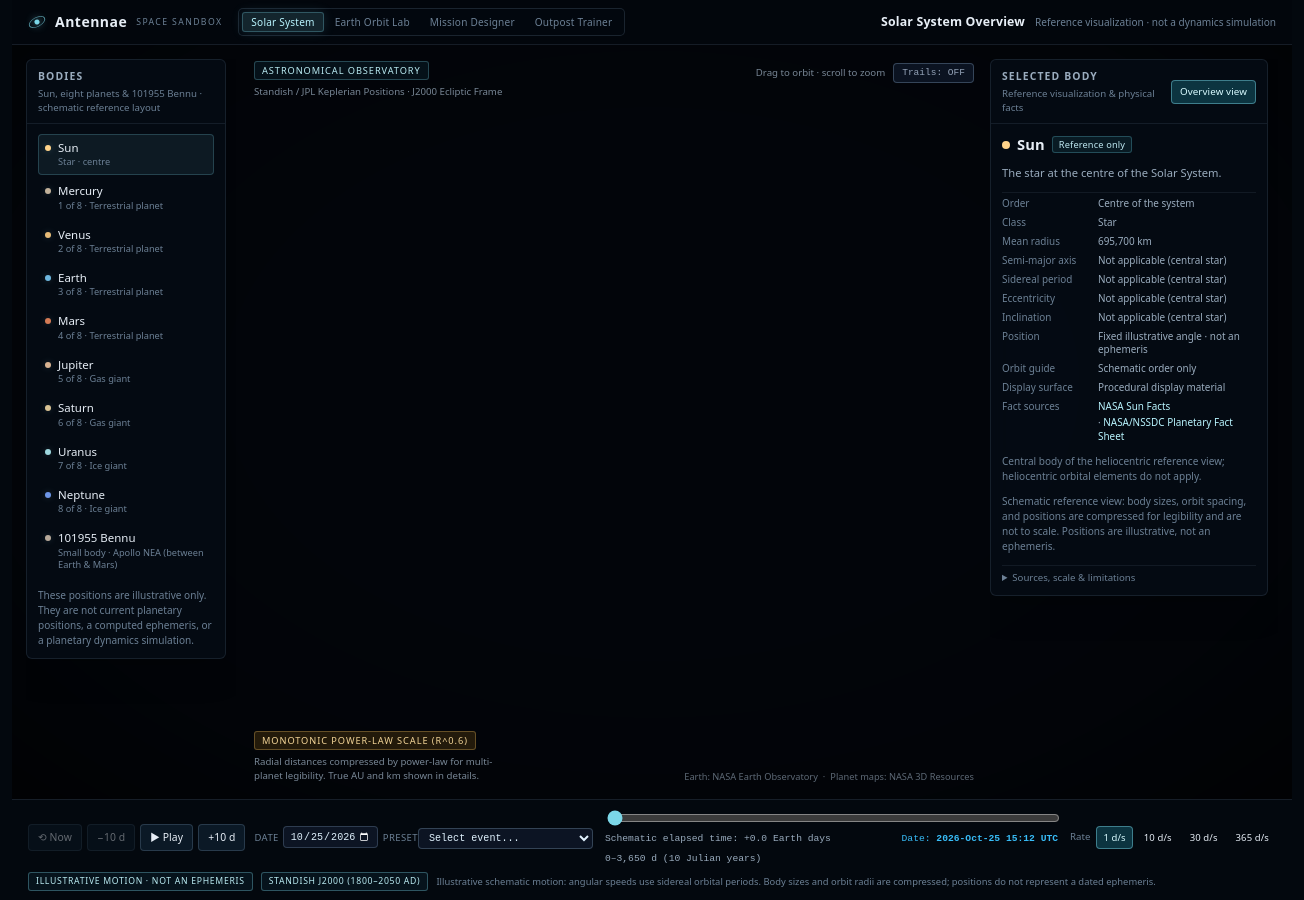
Test case: Mission Designer › opens with the objective, pass rule, baseline reference, and computed metrics
Click the button "Mission Designer": (472, 22) [421, 12, 524, 32]
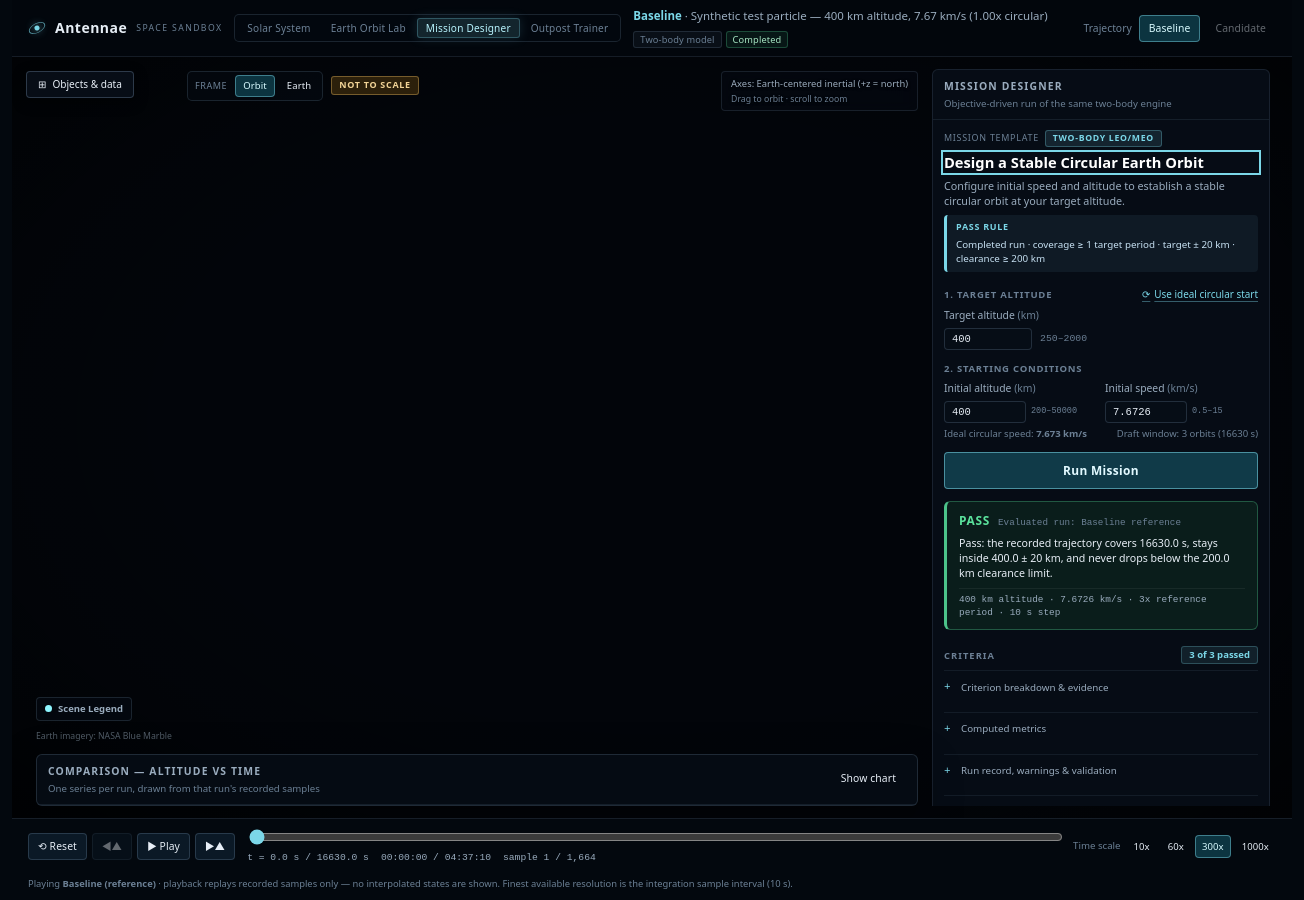
Result: the heading "Design a Stable Circular Earth Orbit" is shown at [944, 152, 1204, 172]
Result: the element with class "mission-rule" shows "Pass rule" at [956, 220, 1009, 233]
Result: the button "Run Mission" is shown at [944, 452, 1258, 489]
